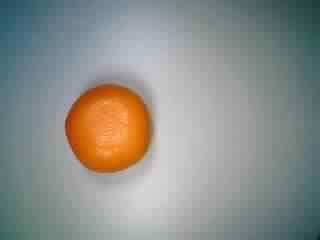orange: (59, 83, 154, 177)
